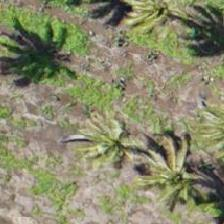coconut_tree: (107, 127, 197, 217), (76, 100, 166, 190), (116, 0, 206, 53)
